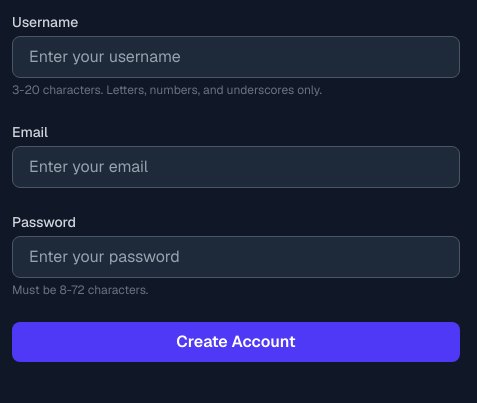
it: RegisterForm › displays field-specific errors from a 409 server response
The width and height of the screenshot is (477, 403).
Type "testuser" into the field labelled "Username" at x=236, y=57, box [12,36,460,78]
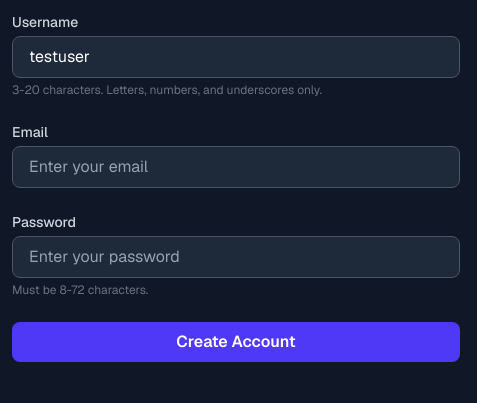
Type "taken@example.com" into the field labelled "Email" at x=236, y=167, box [12,146,460,188]
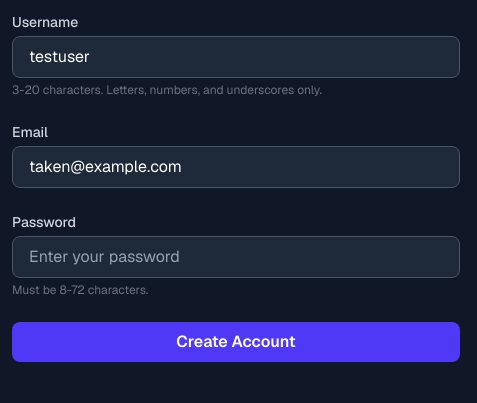
Type "password123" into the password field labelled "Password" at x=236, y=257, box [12,236,460,278]
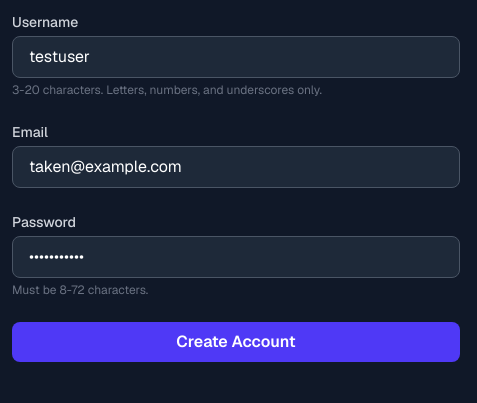
Click the button "Create Account" at x=236, y=342, box [12,322,460,362]
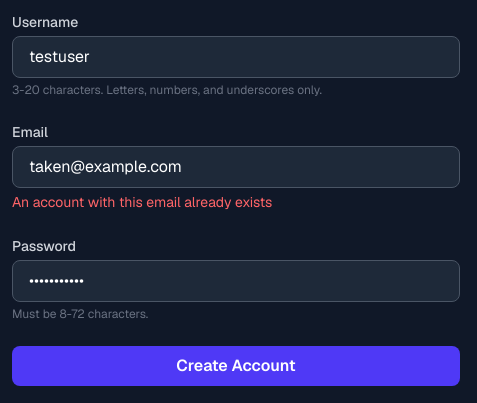
Check: the text "An account with this email already exists" is shown, box [12,193,272,211]
